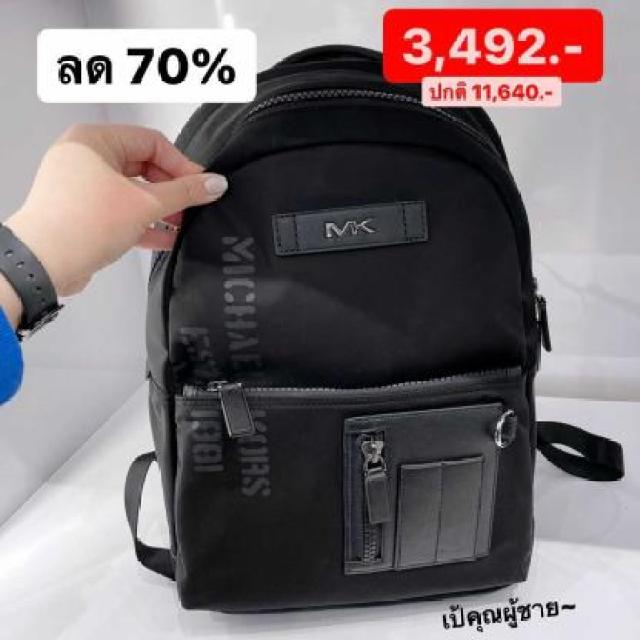Bag: (134, 50, 580, 615)
